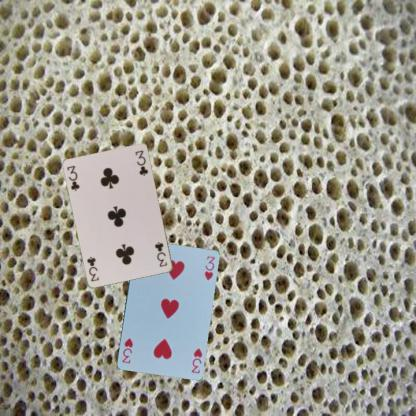3c: (152, 239, 168, 268), (65, 163, 81, 192)
3h: (189, 345, 203, 374)
